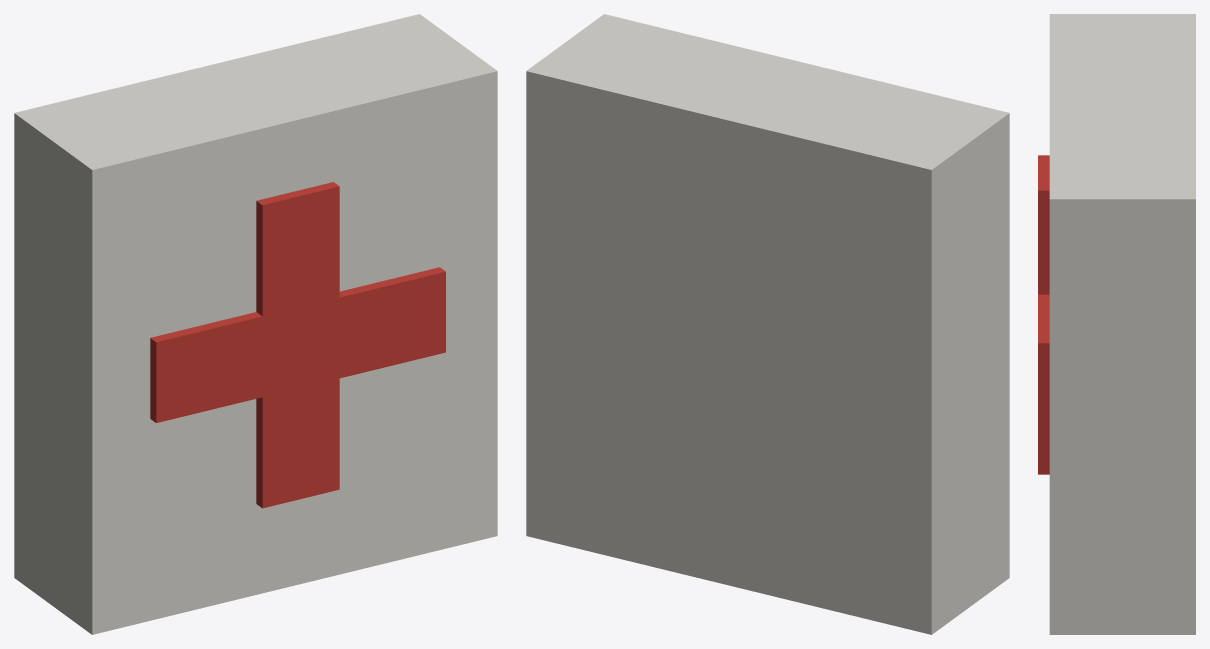
Rendered from first_aid.glb.
3 renders of one model, left to right at view 1: azimuth 30°, elevation 25°; view 2: azimuth 150°, elevation 25°; view 3: azimuth 270°, elevation 25°, orthographic. The views are drawn at different scales.
Visible parts, largest first — view 1: first_aid; view 2: first_aid; view 3: first_aid.
Boxes of the visible parts, left/top/right/bottom form: first_aid: left=14, top=14, right=497, bottom=634; first_aid: left=526, top=14, right=1009, bottom=634; first_aid: left=1038, top=14, right=1195, bottom=634.
Bounding box in the file's own units: 0.42 × 0.46 × 0.151.
